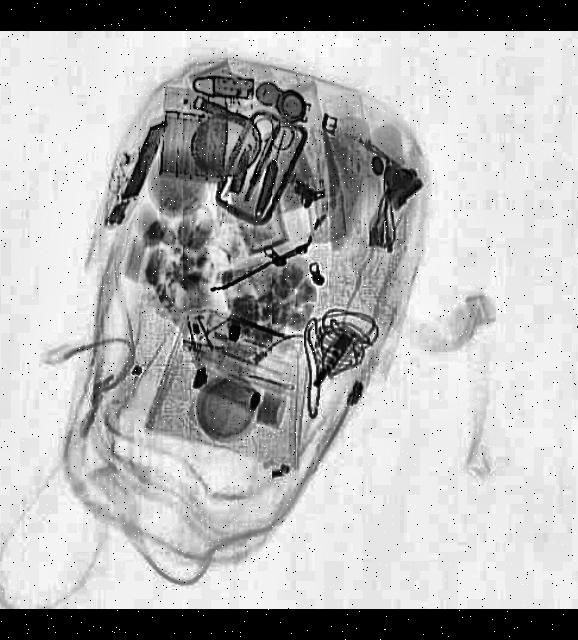Scissors: (226, 115, 298, 212)
